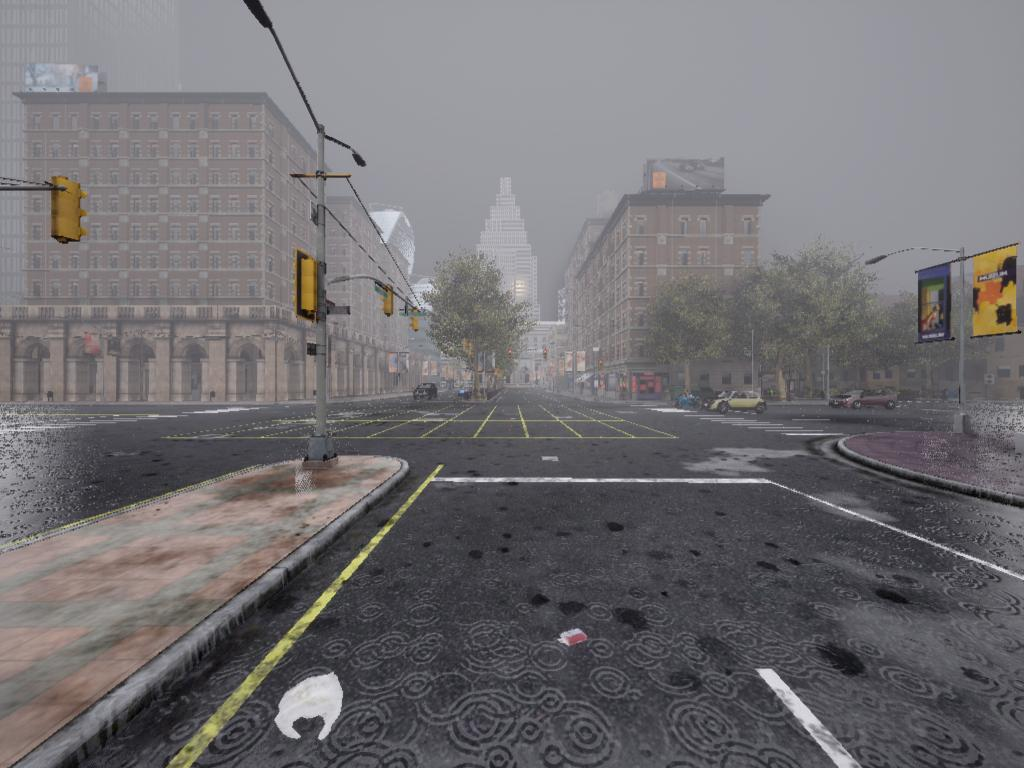traffic_light: (53, 177, 93, 244), (296, 256, 325, 318), (379, 286, 398, 318), (411, 317, 423, 333), (507, 350, 514, 364), (599, 360, 606, 373), (543, 350, 551, 361)
